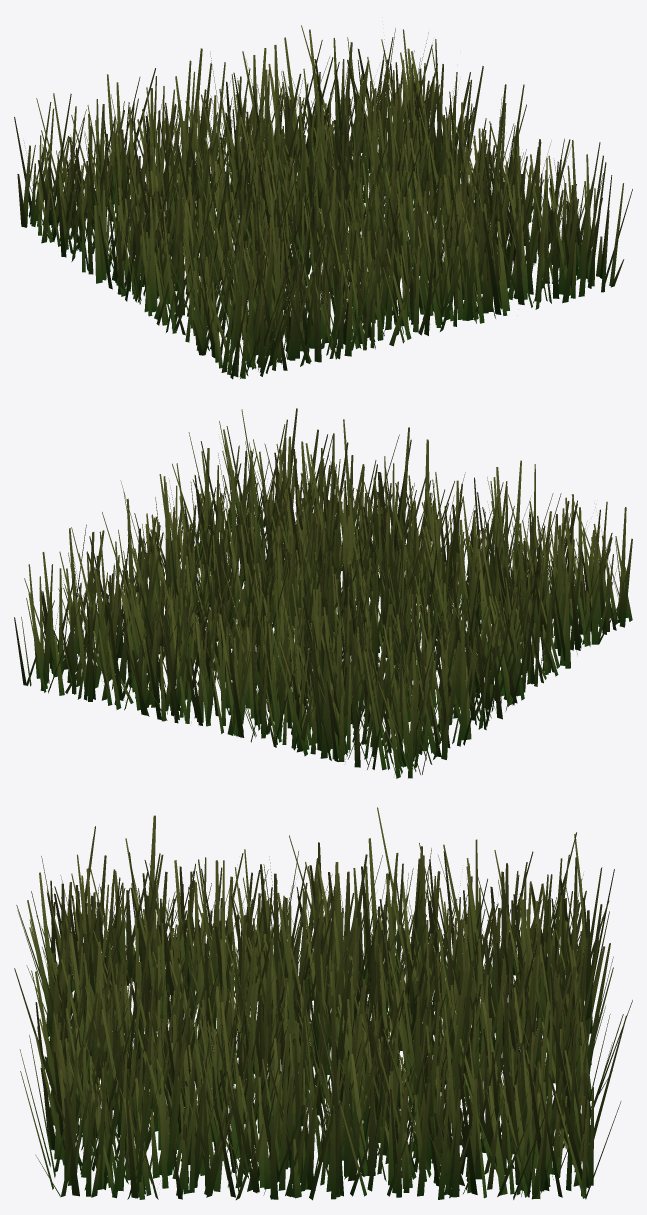
Rendered from Turf_Wild_v4.glb.
3 renders of one model, top to bottom at view 1: azimuth 30°, elevation 25°; view 2: azimuth 150°, elevation 25°; view 3: azimuth 270°, elevation 25°, orthographic. The views are drawn at different scales.
Visible parts, largest first — view 1: Turf_Wild_v4; view 2: Turf_Wild_v4; view 3: Turf_Wild_v4.
Part boxes in pixels (bbox=[...]): Turf_Wild_v4: bbox=[14, 25, 632, 379]; Turf_Wild_v4: bbox=[14, 408, 632, 778]; Turf_Wild_v4: bbox=[14, 807, 632, 1200].
Size of the model in its own units: 1.35 by 0.3955 by 1.39.
